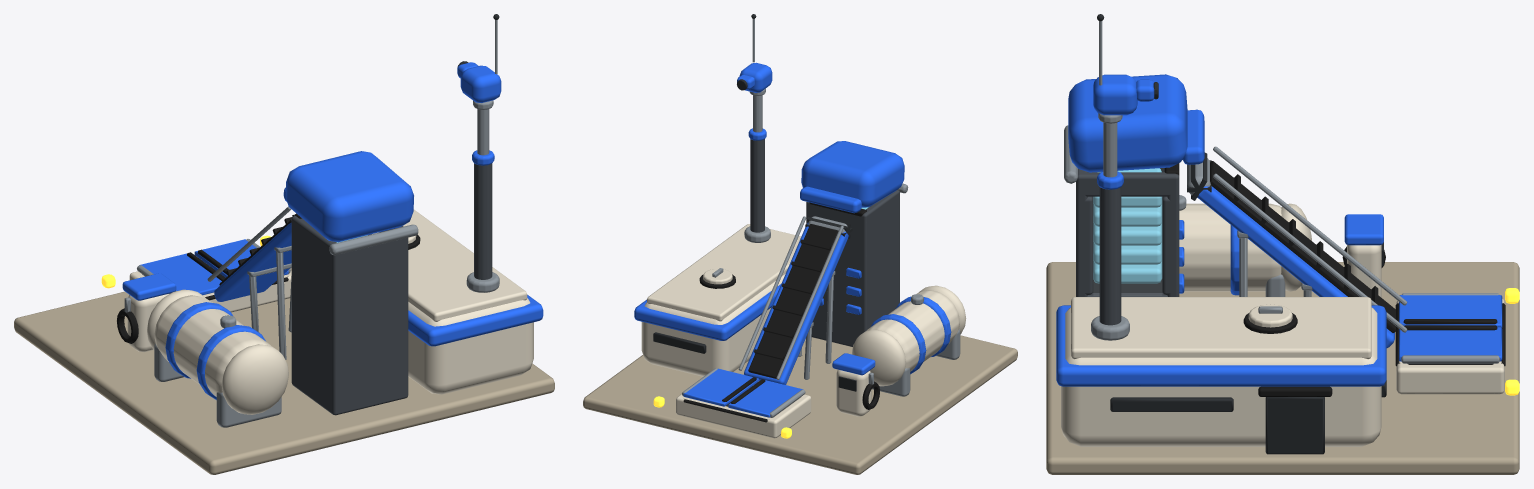
File: outpost.glb
3 renders of one model, left to right at view 1: azimuth 30°, elevation 25°; view 2: azimuth 150°, elevation 25°; view 3: azimuth 270°, elevation 25°, orthographic. The views are drawn at different scales.
Visible parts, largest first — view 1: stage_0__M_SugarPad, stage_2__M_SmokePlastic, stage_1__M_CreamPlastic, head__M_Team, stage_2__M_CreamPlastic, stage_2__M_Team, stage_2__M_SpringSteel, stage_3__M_SmokePlastic, stage_1__M_Team, flap_r__M_Team, stage_1__M_SpringSteel, lookout__M_Team (+4 smaller); view 2: stage_0__M_SugarPad, stage_1__M_CreamPlastic, stage_2__M_SmokePlastic, stage_2__M_CreamPlastic, head__M_Team, stage_2__M_Team, stage_2__M_Licorice, stage_2__M_SpringSteel, flap_l__M_Team, stage_3__M_SmokePlastic, flap_r__M_Team, stage_1__M_Team (+4 smaller); view 3: stage_0__M_SugarPad, stage_1__M_CreamPlastic, stage_2__M_CreamPlastic, stage_2__M_Team, head__M_Team, stage_2__M_SmokePlastic, stage_1__M_Dark, stage_2__M_ClearGlass, stage_2__M_Licorice, stage_2__M_SpringSteel, stage_3__M_SmokePlastic, flap_l__M_Team (+15 smaller).
Part boxes in pixels (x1,y1,x2,y2): stage_0__M_SugarPad: (14,268,554,474); stage_2__M_SmokePlastic: (291,216,408,415); stage_1__M_CreamPlastic: (127,271,533,414); head__M_Team: (283,151,413,242); stage_2__M_CreamPlastic: (372,209,527,321); stage_2__M_Team: (122,222,543,346); stage_2__M_SpringSteel: (207,206,499,359); stage_3__M_SmokePlastic: (474,163,492,279); stage_1__M_Team: (165,302,265,399); flap_r__M_Team: (140,253,221,295); stage_1__M_SpringSteel: (124,297,281,427); lookout__M_Team: (457,62,501,102); stage_0__M_SugarPad: (583,335,1017,474); stage_1__M_CreamPlastic: (641,274,966,438); stage_2__M_SmokePlastic: (806,190,899,346); stage_2__M_CreamPlastic: (647,224,800,321); head__M_Team: (800,141,904,213); stage_2__M_Team: (634,222,875,384); stage_2__M_Licorice: (699,202,866,378); stage_2__M_SpringSteel: (712,216,923,379); flap_l__M_Team: (683,368,758,406); stage_3__M_SmokePlastic: (750,139,764,232); flap_r__M_Team: (728,380,802,417); stage_1__M_Team: (870,296,951,374); stage_0__M_SugarPad: (1046,262,1519,474); stage_1__M_CreamPlastic: (1061,203,1504,446); stage_2__M_CreamPlastic: (1071,297,1371,359); stage_2__M_Team: (1056,186,1394,386); head__M_Team: (1068,74,1204,172); stage_2__M_SmokePlastic: (1076,168,1179,296); stage_1__M_Dark: (1110,242,1386,454); stage_2__M_ClearGlass: (1094,197,1161,295); stage_2__M_Licorice: (1164,161,1395,333); stage_2__M_SpringSteel: (1091,146,1407,340); stage_3__M_SmokePlastic: (1099,187,1121,325); flap_l__M_Team: (1399,327,1502,361).
Bounding box in the file's own units: 1.92 × 1.97 × 1.92.
